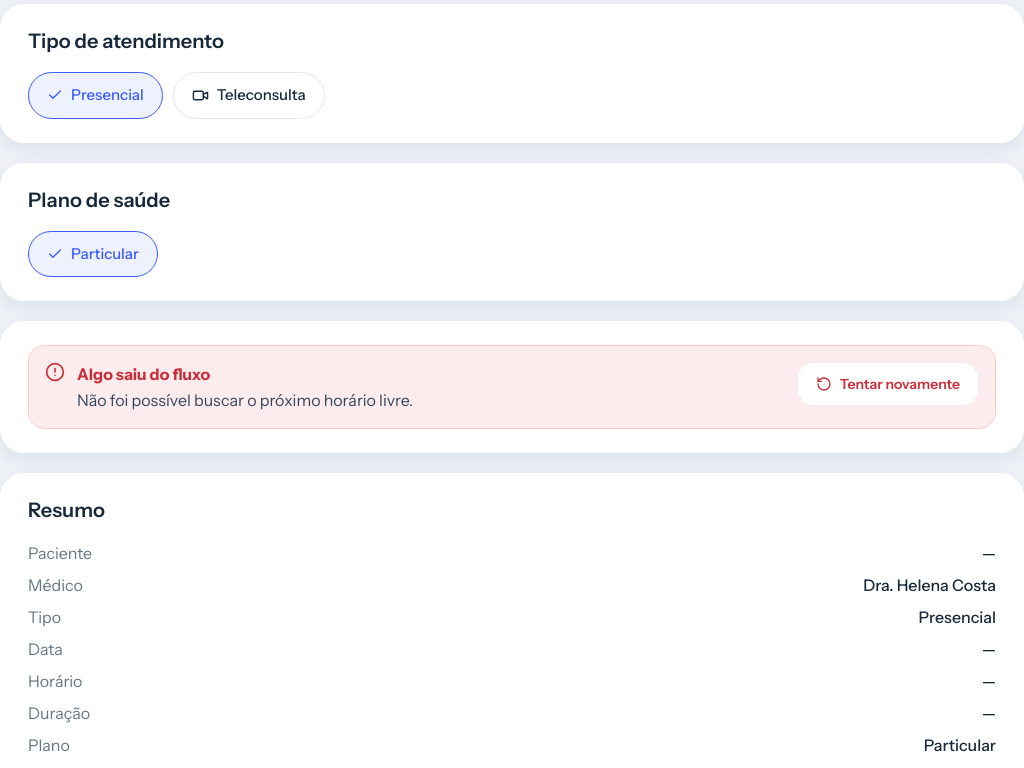
Test: consulta rápida recupera a falha ao buscar o próximo horário
(page scrolled)
Expected: the message shows "Não foi possível buscar o próximo horário livre.", 77,390 -> 413,410
Click the button "Tentar novamente".
click(888, 384)  # box 797,362 -> 979,406
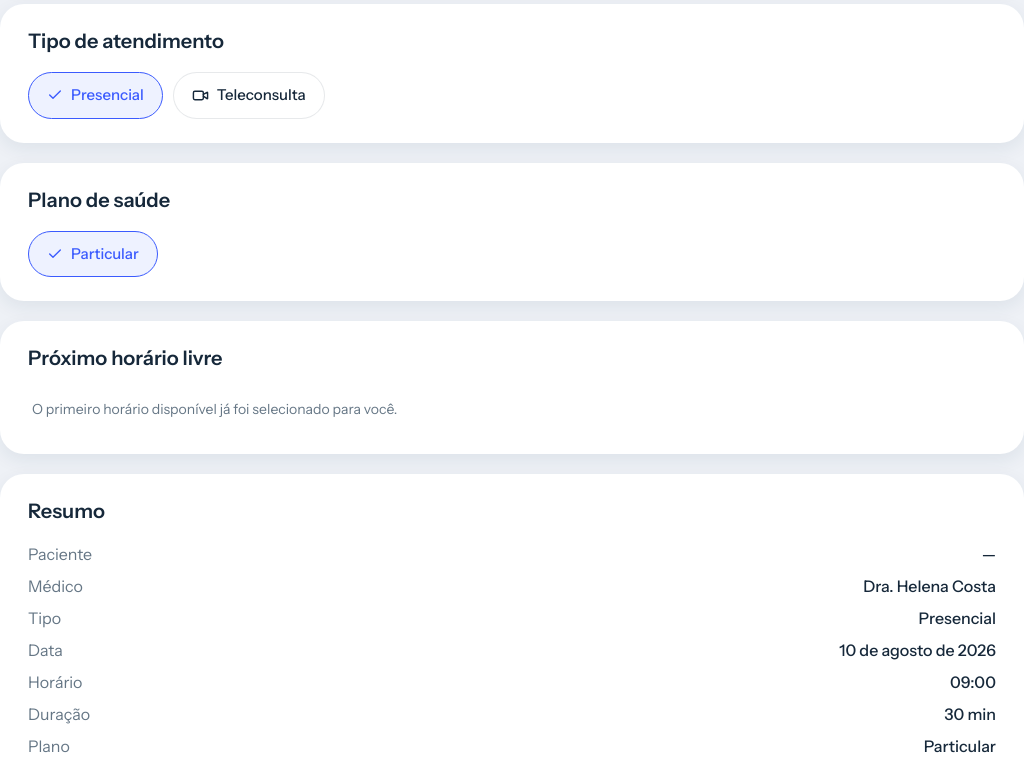
Result: the text "09:00" is shown at 950,670 -> 996,694
